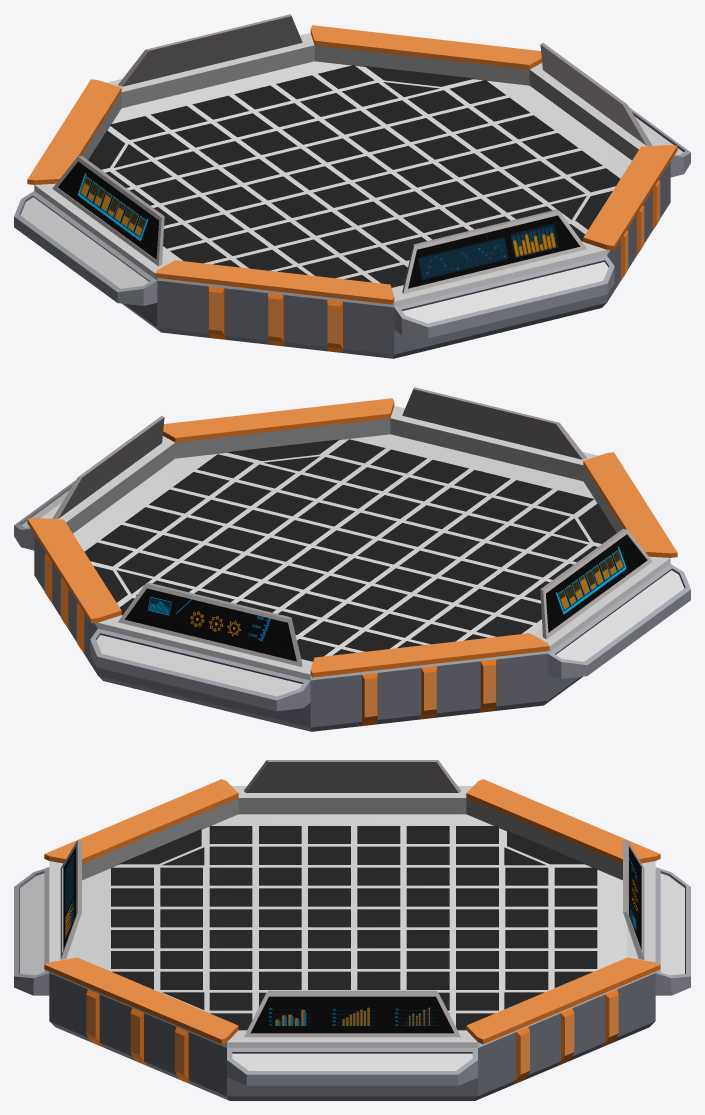
File: DigitalTable_01.glb
3 views of the same model, one above another, from view 1: azimuth 30°, elevation 25°; view 2: azimuth 150°, elevation 25°; view 3: azimuth 270°, elevation 25° (orthographic). The views are drawn at different scales.
Parts seen in each view (by area): view 1: DigitalTable_01; view 2: DigitalTable_01; view 3: DigitalTable_01.
Part boxes in pixels (left/top/right/bottom): DigitalTable_01: left=14, top=14, right=690, bottom=358; DigitalTable_01: left=14, top=387, right=690, bottom=731; DigitalTable_01: left=14, top=760, right=690, bottom=1100.
Size of what is drawn, in the model's own units: 3.25 by 0.5251 by 3.25.
Materials: 2 (2 with a texture image).
